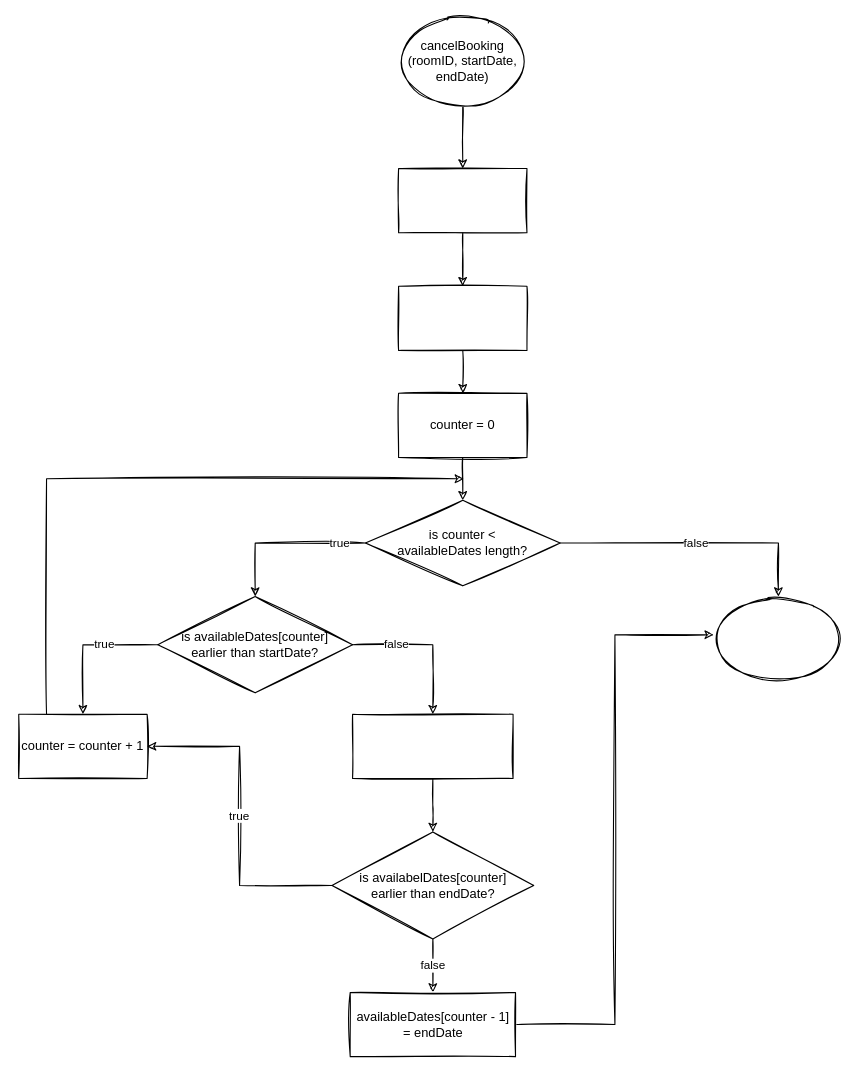
This 861x1075 diagram has some shape labels left out. The centre of each missing label's shape, as x and y in pixels:
"availableDates[counter -1] = startDate" belongs at (x=432, y=745).
"find Room item that has the same roomID provided" belongs at (x=462, y=200).
"get availableDates from Room item" belongs at (x=462, y=317).
"return availableDates array" belongs at (x=778, y=638).
